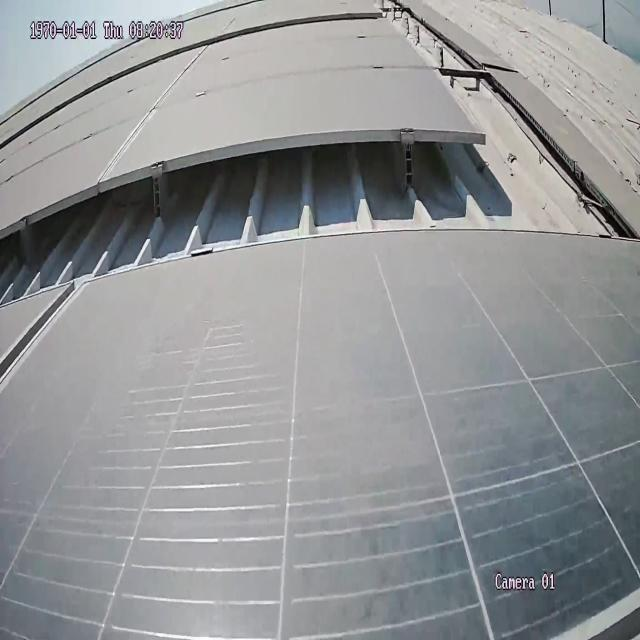interior panel: (78, 42, 222, 185), (0, 274, 104, 417)
outher panel: (0, 0, 640, 308)
